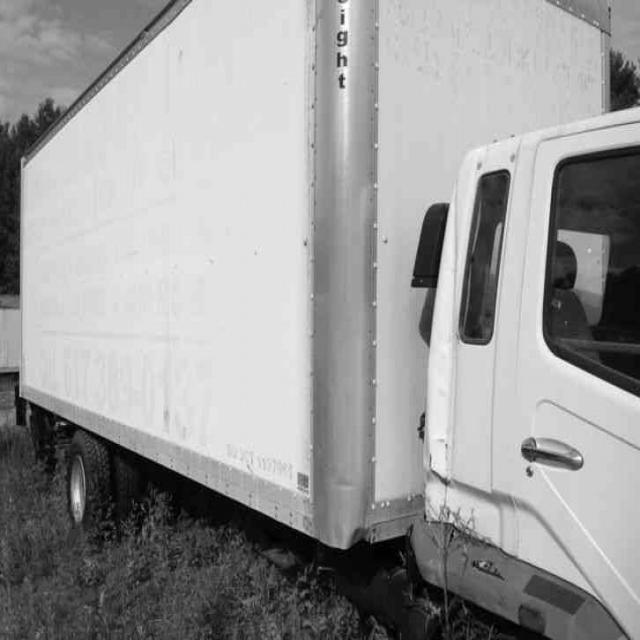truck: (380, 96, 640, 639)
